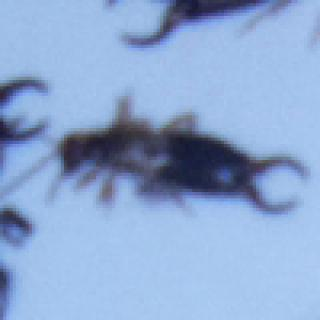earwig: (8, 97, 311, 229)
